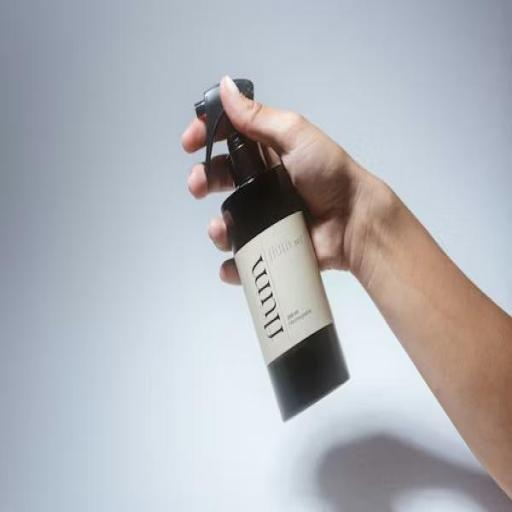bottle: (191, 58, 361, 436)
